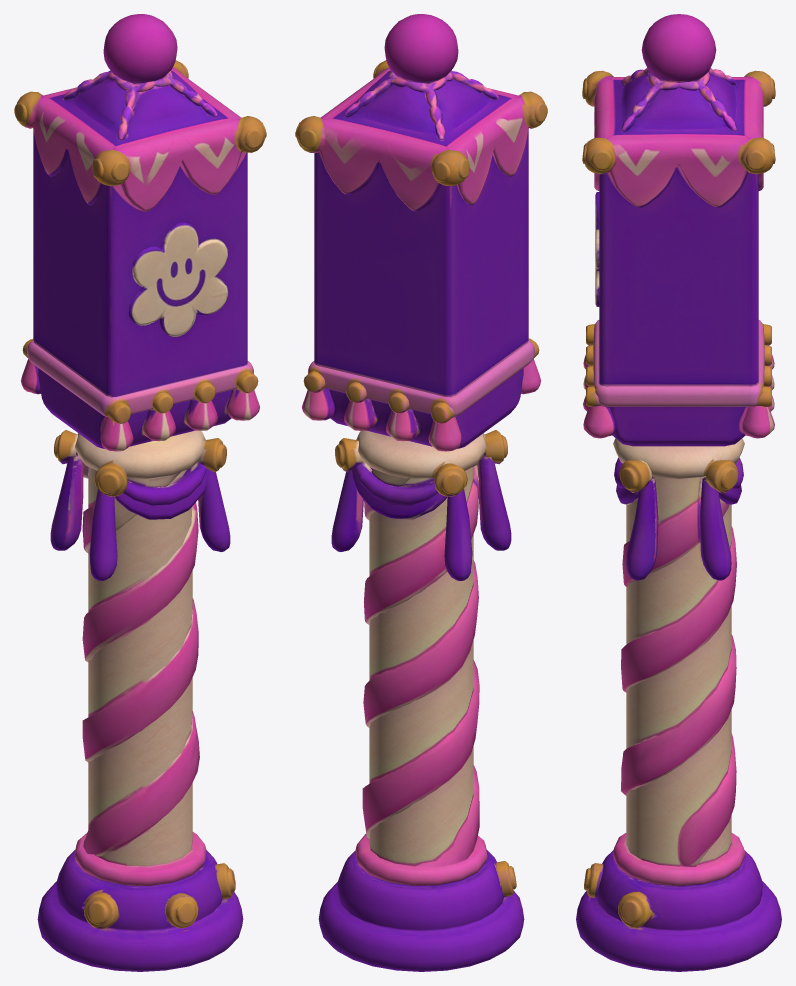
The model's file is dream-cane.glb.
3 renders of one model, left to right at view 1: azimuth 30°, elevation 25°; view 2: azimuth 150°, elevation 25°; view 3: azimuth 270°, elevation 25°, orthographic.
Parts seen in each view (by area): view 1: tripo_node_d2ee8ebc-b2e6-4c3a-8f67-7d2bf8885dd7; view 2: tripo_node_d2ee8ebc-b2e6-4c3a-8f67-7d2bf8885dd7; view 3: tripo_node_d2ee8ebc-b2e6-4c3a-8f67-7d2bf8885dd7.
Part boxes in pixels (left/top/right/bottom): tripo_node_d2ee8ebc-b2e6-4c3a-8f67-7d2bf8885dd7: left=14, top=14, right=266, bottom=971; tripo_node_d2ee8ebc-b2e6-4c3a-8f67-7d2bf8885dd7: left=295, top=14, right=547, bottom=971; tripo_node_d2ee8ebc-b2e6-4c3a-8f67-7d2bf8885dd7: left=576, top=14, right=781, bottom=971.
Size of the model in its own units: 0.2036 by 0.9995 by 0.2036.
Materials: 1 (1 with a texture image).
